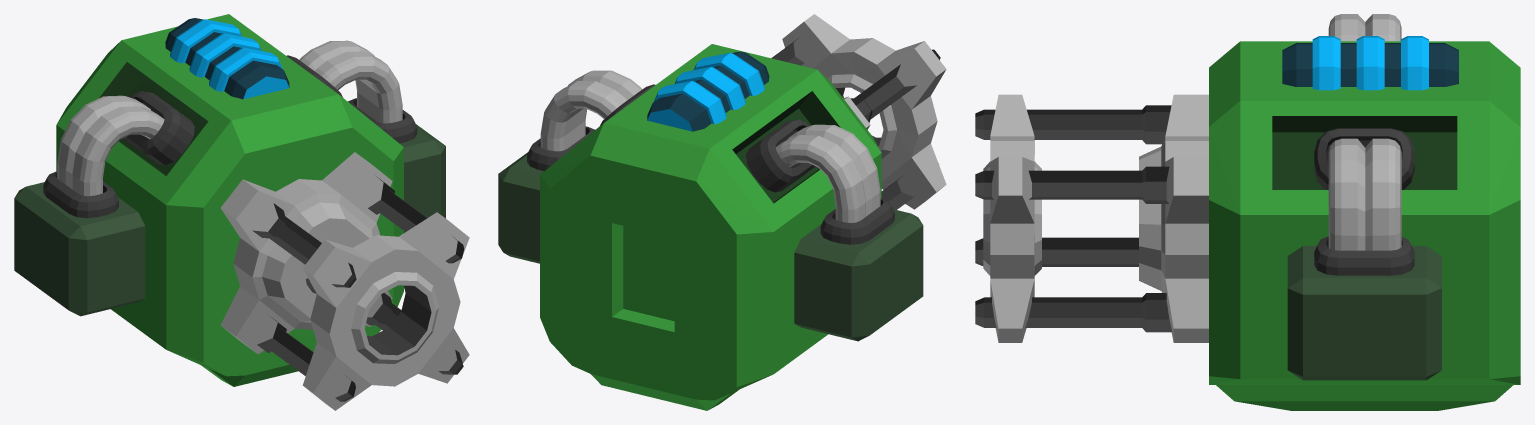
The model's file is energy_cannon.fbx.
3 views of the same model, side by side, from view 1: azimuth 30°, elevation 25°; view 2: azimuth 150°, elevation 25°; view 3: azimuth 270°, elevation 25° (orthographic). The views are drawn at different scales.
Parts seen in each view (by area): view 1: Cube.071, Cylinder.039, Cylinder.038, BezierCurve.002, Cylinder.044, Cube.073, Cylinder.043, Cylinder.041, Cylinder.040, Cylinder.042; view 2: Cube.071, Cylinder.039, BezierCurve.002, Cylinder.044, Cube.073, Cylinder.043, Cylinder.041; view 3: Cube.071, Cylinder.038, Cylinder.039, BezierCurve.002, Cylinder.044, Cylinder.042, Cube.073, Cylinder.043, Cylinder.040, Cylinder.041.
Boxes of the visible parts, <box> form: Cube.071: <box>14,14,445,386</box>; Cylinder.039: <box>302,212,469,410</box>; Cylinder.038: <box>220,152,392,354</box>; BezierCurve.002: <box>57,40,402,196</box>; Cylinder.044: <box>165,18,289,99</box>; Cube.073: <box>43,55,417,218</box>; Cylinder.043: <box>252,203,356,287</box>; Cylinder.041: <box>257,317,355,401</box>; Cylinder.040: <box>368,176,464,263</box>; Cylinder.042: <box>366,293,463,374</box>; Cube.071: <box>498,44,923,410</box>; Cylinder.039: <box>782,14,946,209</box>; BezierCurve.002: <box>540,70,880,222</box>; Cylinder.044: <box>647,51,769,131</box>; Cube.073: <box>527,84,894,244</box>; Cylinder.043: <box>850,49,940,122</box>; Cylinder.041: <box>881,176,913,209</box>; Cube.071: <box>1209,41,1520,410</box>; Cylinder.038: <box>1139,94,1208,342</box>; Cylinder.039: <box>983,94,1041,342</box>; BezierCurve.002: <box>1328,14,1401,250</box>; Cylinder.044: <box>1282,36,1458,90</box>; Cylinder.042: <box>975,293,1172,332</box>; Cube.073: <box>1314,128,1414,275</box>; Cylinder.043: <box>975,105,1171,144</box>; Cylinder.040: <box>975,166,1169,203</box>; Cylinder.041: <box>975,237,1138,266</box>.
Size of the model in its own units: 126 by 98.57 by 139.
